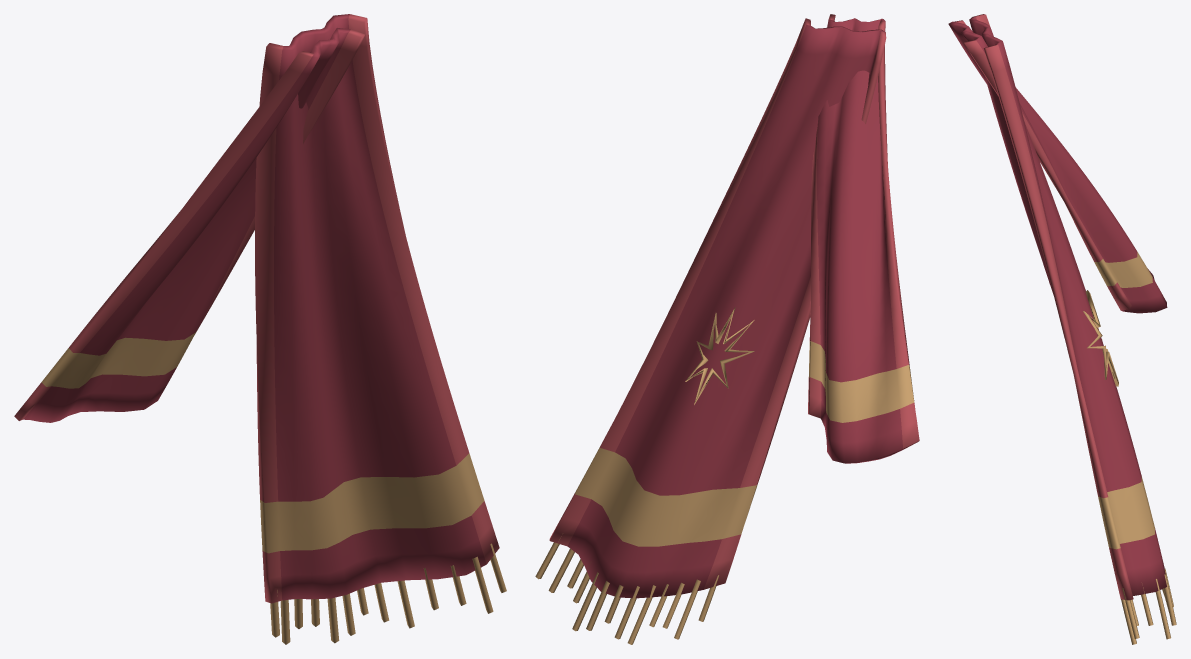
Rendered from courier-wool-scarf.glb.
3 renders of one model, left to right at view 1: azimuth 30°, elevation 25°; view 2: azimuth 150°, elevation 25°; view 3: azimuth 270°, elevation 25°, orthographic. The views are drawn at different scales.
Visible parts, largest first — view 1: Winter courier wool and thread; view 2: Winter courier wool and thread; view 3: Winter courier wool and thread.
Part boxes in pixels (bbox=[...]): Winter courier wool and thread: bbox=[14, 14, 506, 644]; Winter courier wool and thread: bbox=[535, 14, 919, 644]; Winter courier wool and thread: bbox=[948, 14, 1176, 644].
Size of the model in its own units: 0.4884 by 0.703 by 0.2733.
